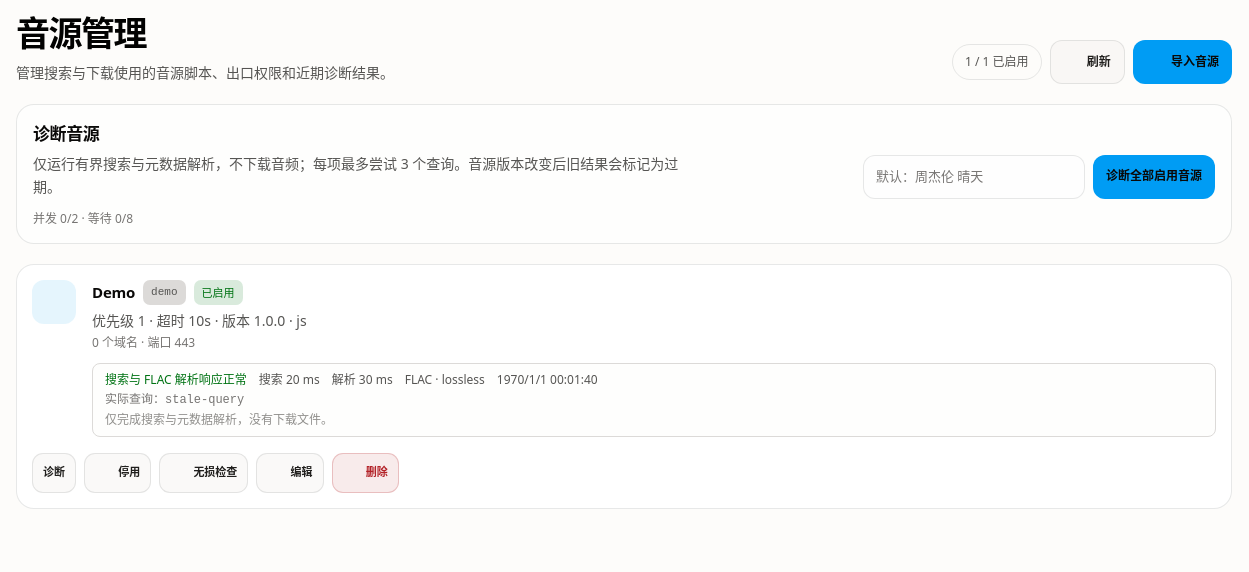
Test: SourcesPage diagnostics › keeps a newly scheduled job and hides an older job result with a different job id
Click the button with aria-label "诊断 Demo" at (54, 473), box [32,453,76,493]
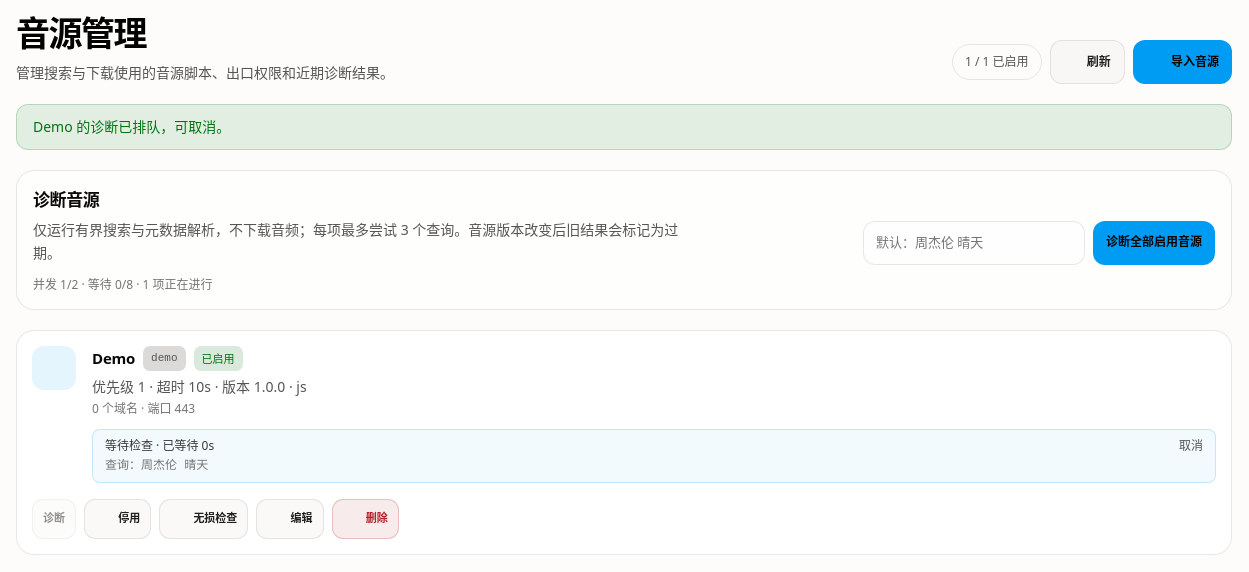
Check: the text "等待检查" is shown, box [105,437,214,454]
Check: the text "1 项正在进行" is shown, box [133,276,213,293]
Check: the text "实际查询：stale-query" is gone
